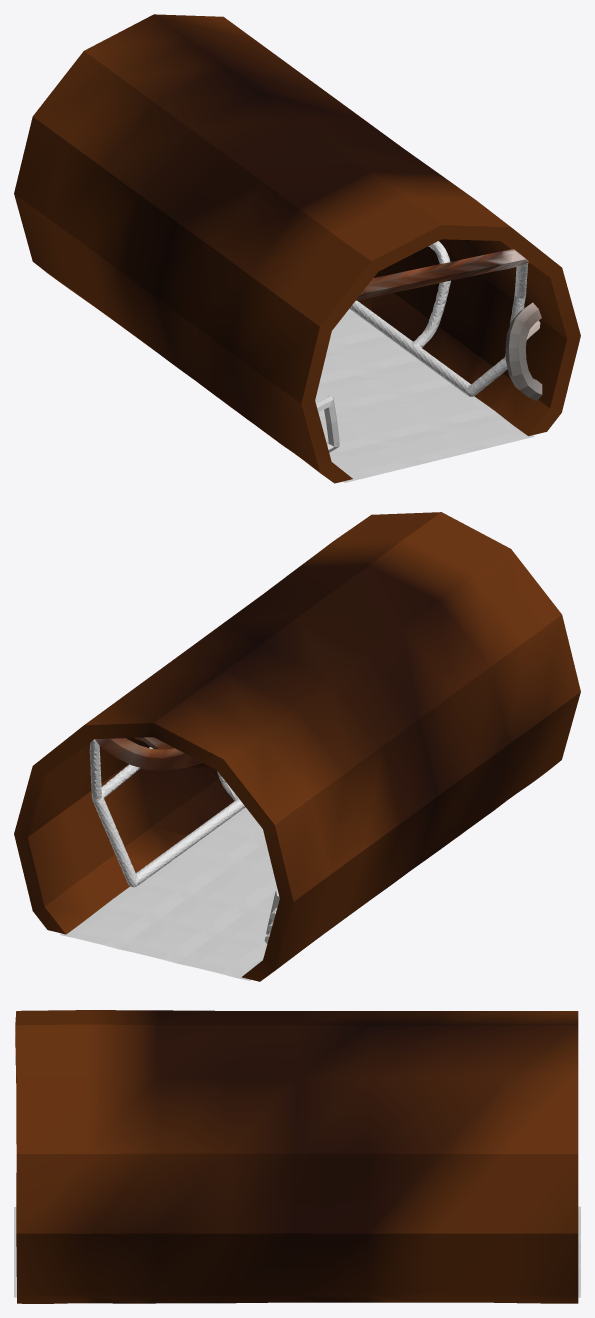
File: Tunnel(3).fbx
The picture shows the model from 3 angles, top to bottom: view 1: azimuth 30°, elevation 25°; view 2: azimuth 150°, elevation 25°; view 3: azimuth 270°, elevation 25°; orthographic projection. The views are drawn at different scales.
Parts seen in each view (by area): view 1: Cylindre 3, Cylindre 2, Tube, Tube 12, Tube 6, Tube 7; view 2: Cylindre 3, Cylindre 2, Tube, Tube 3; view 3: Cylindre 3, Cylindre 2.
Part boxes in pixels (<box>): Cylindre 3: <box>14,14,580,483</box>; Cylindre 2: <box>315,309,534,482</box>; Tube: <box>349,241,528,396</box>; Tube 12: <box>356,249,528,300</box>; Tube 6: <box>505,302,542,400</box>; Tube 7: <box>316,395,339,452</box>; Cylindre 3: <box>14,512,580,981</box>; Cylindre 2: <box>60,807,277,980</box>; Tube: <box>89,739,245,887</box>; Tube 3: <box>95,738,201,770</box>; Cylindre 3: <box>15,1010,578,1303</box>; Cylindre 2: <box>14,1206,580,1297</box>.
Bounding box in the file's own units: 4.55 × 3.65 × 8.18.
